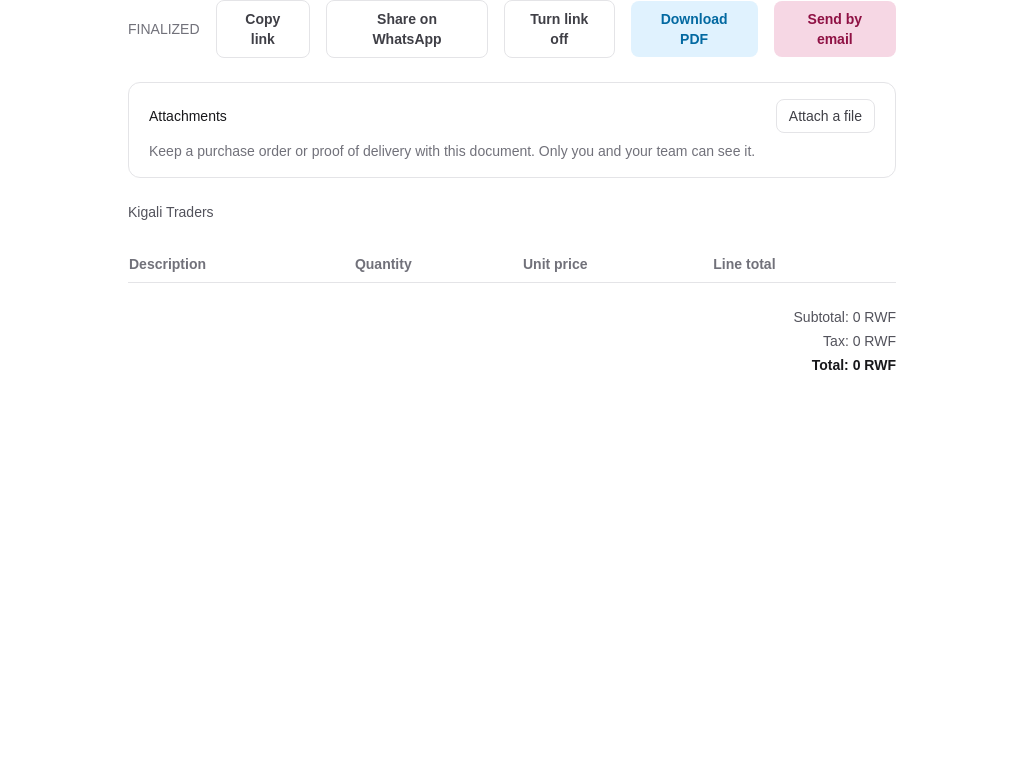
Scenario: DocumentView › shows an error message when sending fails
The width and height of the screenshot is (1024, 768).
Step 1. Click the button "Send by email" → (835, 29), box [774, 1, 896, 57]
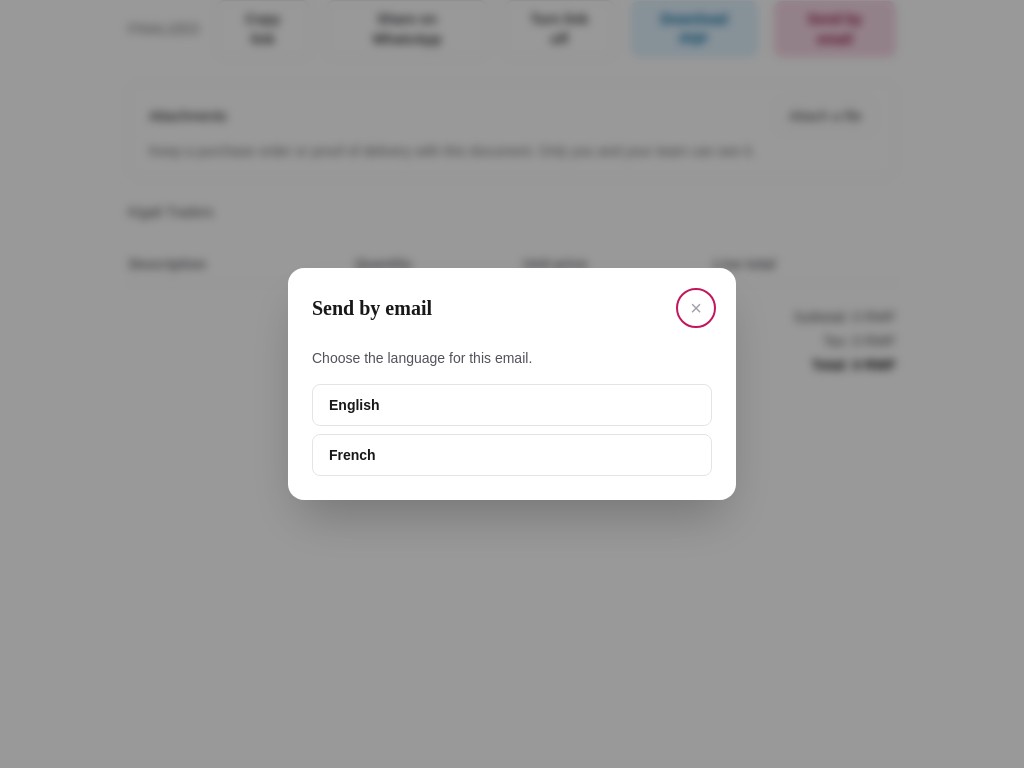
Step 2. Click the button "English" → (354, 405), box [312, 384, 712, 426]
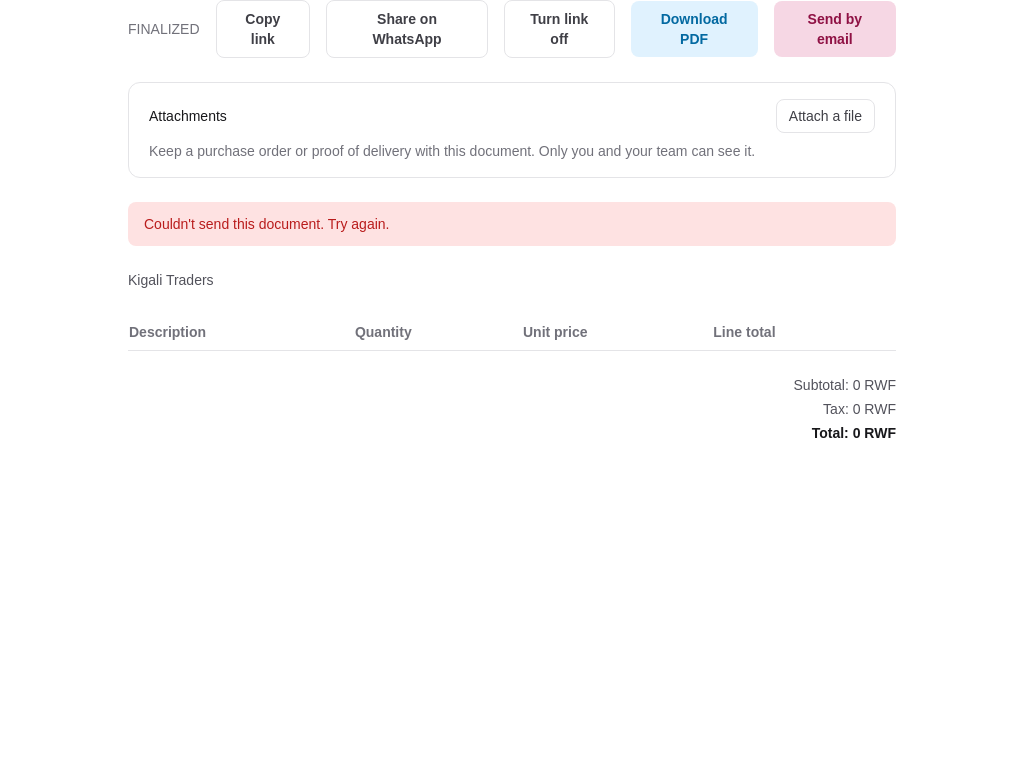
Expected: the message shows "Couldn't send this document", [144, 216, 390, 232]
